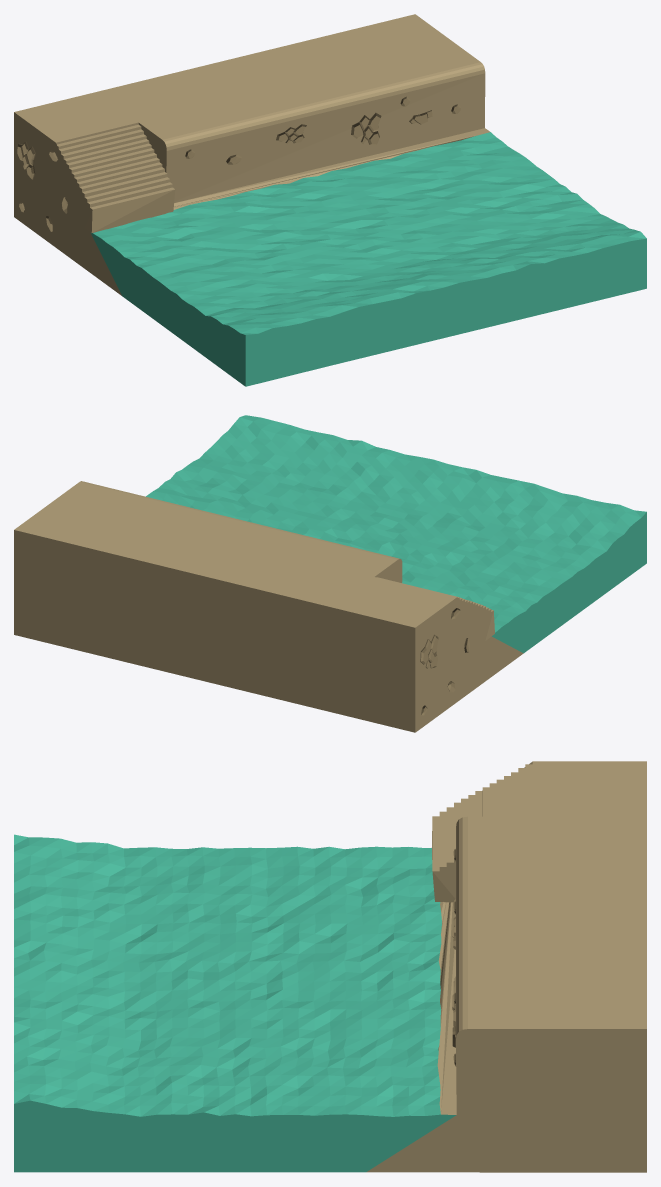
3 views of the same model, one above another, from view 1: azimuth 30°, elevation 25°; view 2: azimuth 150°, elevation 25°; view 3: azimuth 270°, elevation 25° (orthographic). The views are drawn at different scales.
Parts seen in each view (by area): view 1: Base; view 2: Base; view 3: Base.
Boxes of the visible parts, x1,y1,x2,y2 form: Base: (14,14,646,386); Base: (14,415,646,732); Base: (14,761,646,1172).
Bounding box in the file's own units: 10079 × 2505 × 9998.
